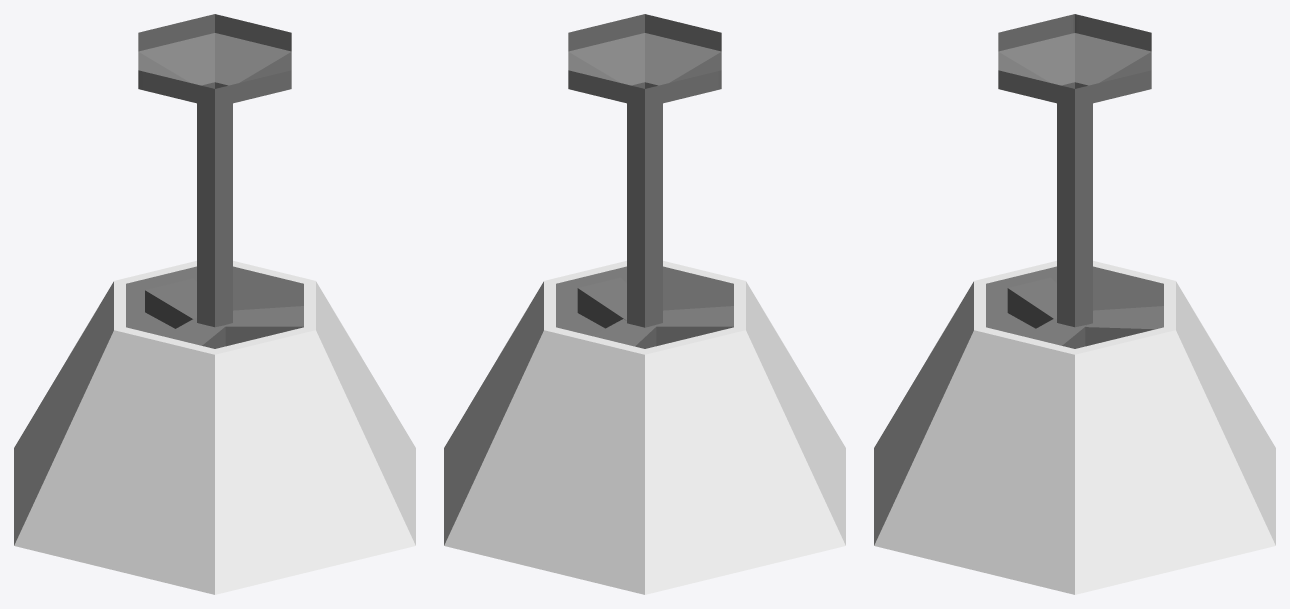
Rendered from kattolamppu_white.FBX.
The picture shows the model from 3 angles, left to right: view 1: azimuth 30°, elevation 25°; view 2: azimuth 150°, elevation 25°; view 3: azimuth 270°, elevation 25°; orthographic projection.
Visible parts, largest first — view 1: kattolamppu_white; view 2: kattolamppu_white; view 3: kattolamppu_white.
Part boxes in pixels (<box>): kattolamppu_white: <box>14,14,415,594</box>; kattolamppu_white: <box>444,14,845,594</box>; kattolamppu_white: <box>874,14,1275,594</box>.
Bounding box in the file's own units: 136 × 144 × 118.
